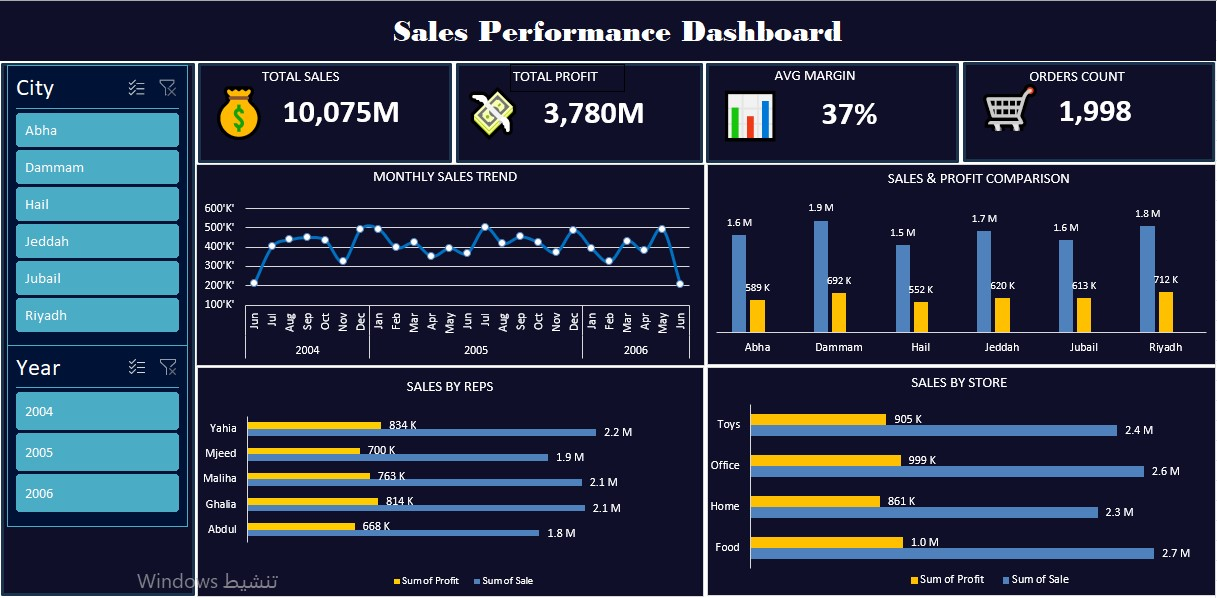

The page's visual inventory and layout, read from the dashboard file:
{"tool":"powerbi","page":{"name":"Page ١","canvas":[1280,720],"ordinal":0},"visuals":[{"type":"shape","box":[16,176,208,544],"z":0},{"type":"shape","title":"SALES PERFORMANCE DASHBOARD","box":[10,0,1260,64],"z":1000},{"type":"cardVisual","title":"💰TOTAL SALES","fields":{"Data":["Sheet1.Total Sales"]},"box":[10,75,310,95],"z":2000},{"type":"cardVisual","title":"🛒ORDER COUNT","fields":{"Data":["Sheet1.Order Count"]},"box":[958,75,310,95],"z":3000},{"type":"cardVisual","title":"📊AVG MARGIN","fields":{"Data":["Sheet1.Avg Profit Margin"]},"box":[642,75,310,95],"z":4000},{"type":"cardVisual","title":"💸TOTAL PROFIT","fields":{"Data":["Sheet1.Total Profit"]},"box":[326,75,310,95],"z":5000},{"type":"lineChart","title":"Total Sales by Month :","fields":{"Category":["Sheet1.Month Name"],"Y":["Sheet1.Total Sales"]},"box":[231,176,1037,256],"z":6000},{"type":"slicer","fields":{"Values":["Sheet1.Year"]},"box":[16,300,192,145],"z":7000},{"type":"slicer","fields":{"Values":["Sheet1.City"]},"box":[16,459,192,249],"z":8000},{"type":"clusteredColumnChart","fields":{"Category":["Sheet1.City"],"Y":["Sheet1.Total Sales"]},"box":[231,435,341,281],"z":9000},{"type":"clusteredColumnChart","fields":{"Y":["Sheet1.Total Sales","Sheet1.Total Profit"],"Category":["Sheet1.Store"]},"box":[927,435,340,281],"z":10000},{"type":"clusteredColumnChart","fields":{"Category":["Sheet1.Rep"],"Y":["Sheet1.Total Sales"]},"box":[578,435,342,281],"z":11000},{"type":"actionButton","title":"CONTROL PANEL ","box":[21,191,210,97],"z":12000},{"type":"shape","box":[16,244,192,32],"z":13000}]}

Visuals, with their boxes on the page's 1280x720 design canvas (x1, y1, x2, y2). These are canvas units, not pixel positions in the 1217x598 screenshot, which may show the page scaled, cropped or inside an application window:
shape: [16,176,224,720]
"SALES PERFORMANCE DASHBOARD" shape: [10,0,1270,64]
"💰TOTAL SALES" cardVisual: [10,75,320,170]
"🛒ORDER COUNT" cardVisual: [958,75,1268,170]
"📊AVG MARGIN" cardVisual: [642,75,952,170]
"💸TOTAL PROFIT" cardVisual: [326,75,636,170]
"Total Sales by Month :" lineChart: [231,176,1268,432]
slicer - Sheet1.Year: [16,300,208,445]
slicer - Sheet1.City: [16,459,208,708]
clusteredColumnChart - Sheet1.City x Sheet1.Total Sales: [231,435,572,716]
clusteredColumnChart - Sheet1.Total Sales x Sheet1.Total Profit: [927,435,1267,716]
clusteredColumnChart - Sheet1.Rep x Sheet1.Total Sales: [578,435,920,716]
"CONTROL PANEL " actionButton: [21,191,231,288]
shape: [16,244,208,276]
